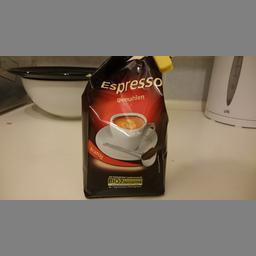coffee: (80, 55, 174, 198)
